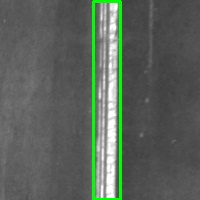scratches: (93, 1, 120, 199)
